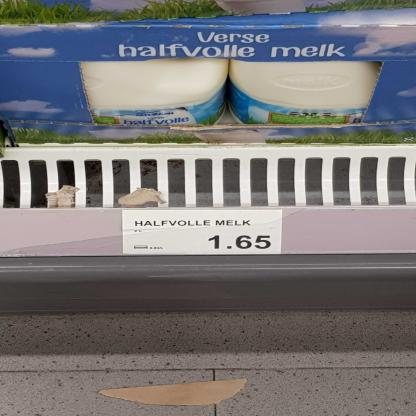prtg: (123, 210, 284, 256)
